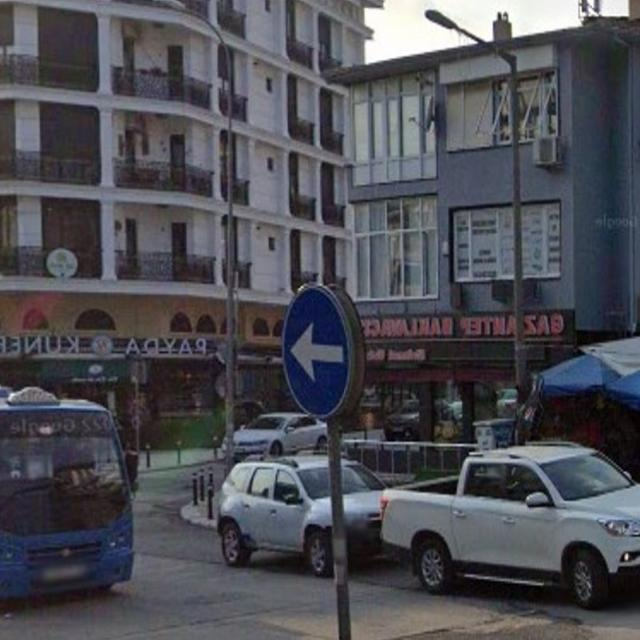Turn Left: (285, 282, 350, 424)
